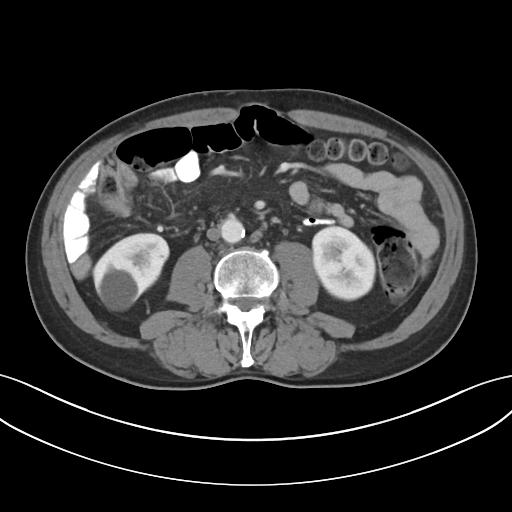Lesion: (99, 266, 139, 315)
